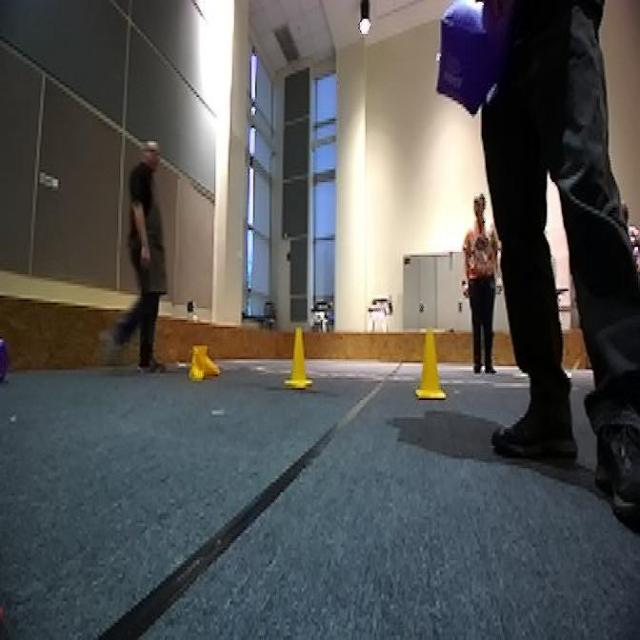frc_cone: (408, 328, 454, 398), (282, 328, 314, 386), (189, 346, 218, 380)
frc_cube: (436, 2, 509, 117), (0, 337, 11, 383)
